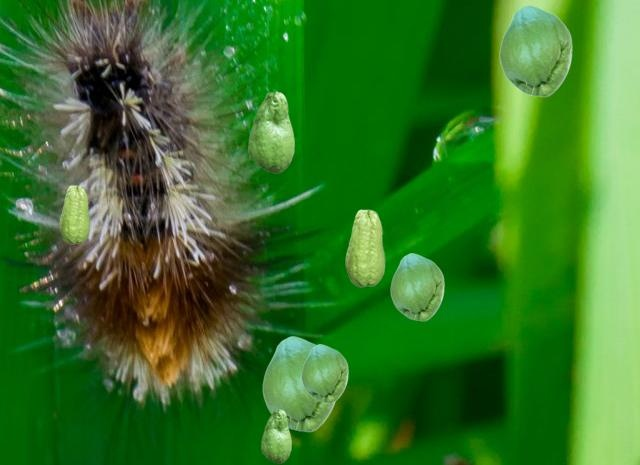sayote: (262, 336, 335, 431), (499, 5, 571, 96), (248, 91, 293, 172), (390, 253, 443, 320), (345, 209, 384, 286), (301, 344, 347, 402), (59, 185, 89, 243), (261, 409, 290, 462)
